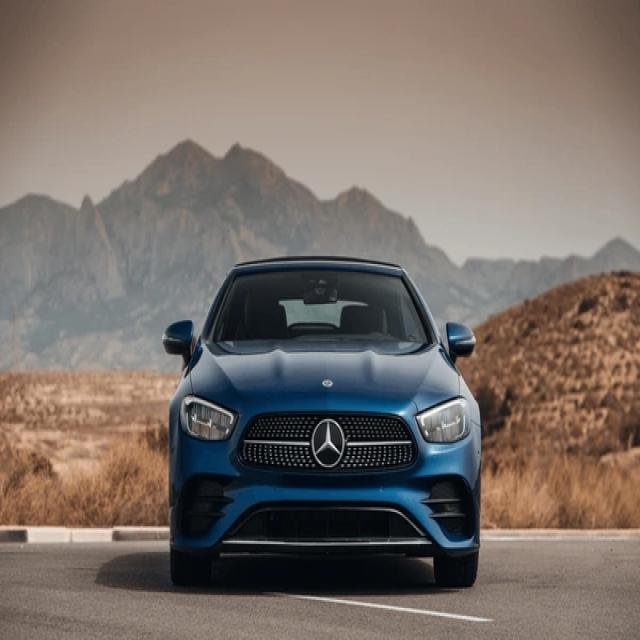mercedes: (311, 419, 346, 465)
